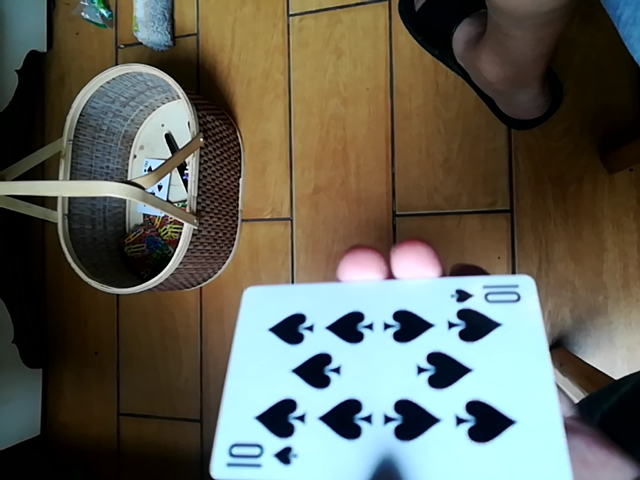ht 10: (218, 277, 565, 478)
